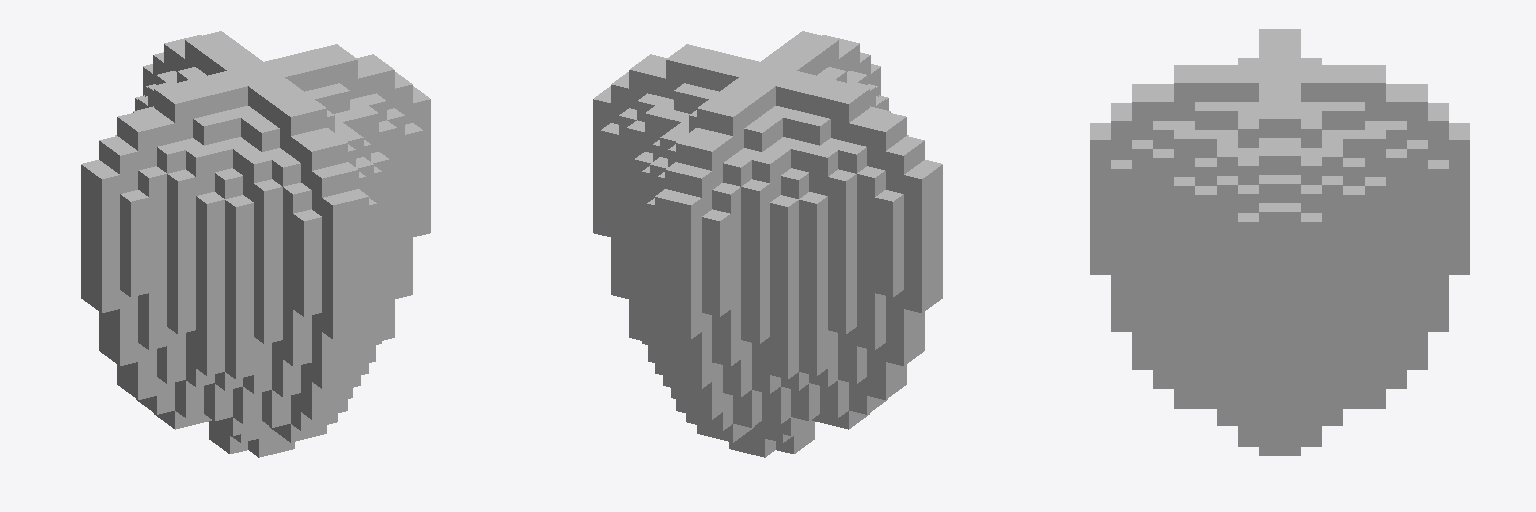
File: seedpira-2 1.obj
3 views of the same model, side by side, from view 1: azimuth 30°, elevation 25°; view 2: azimuth 150°, elevation 25°; view 3: azimuth 270°, elevation 25° (orthographic).
Visible parts, largest first — view 1: Model; view 2: Model; view 3: Model.
Part boxes in pixels (x1,y1,x2,y2): Model: (81,31,430,457); Model: (593,31,942,457); Model: (1090,29,1469,455).
Bounding box in the file's own units: 30.32 × 32 × 30.32.